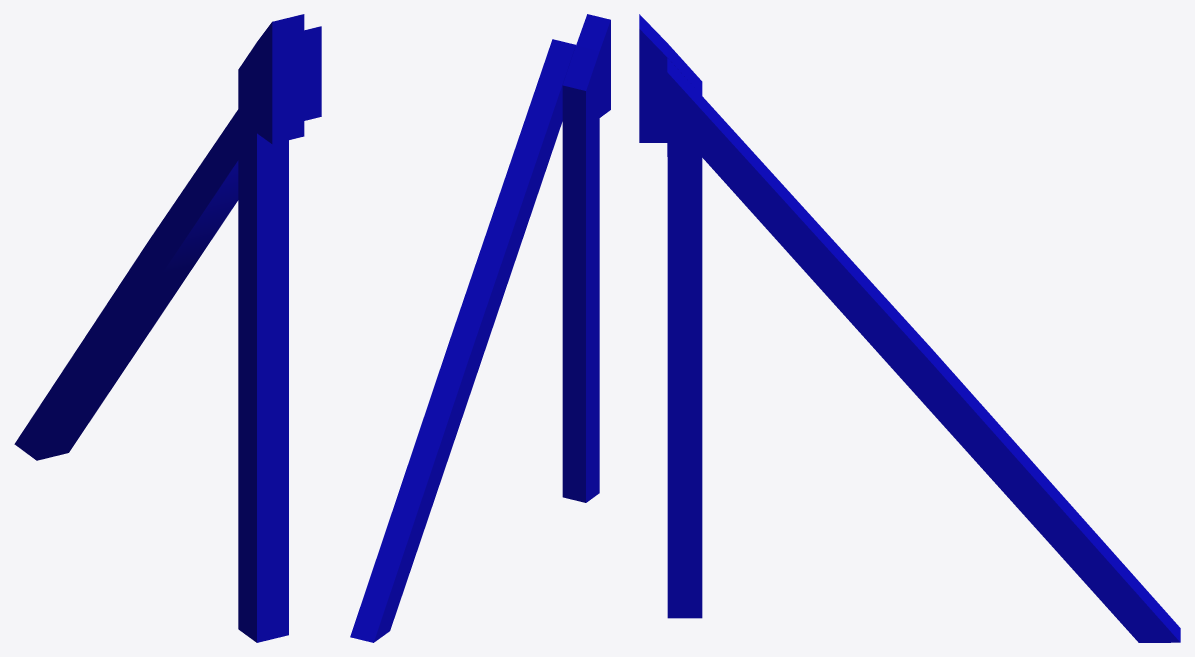
Rendered from 정문 조형물.fbx.
The picture shows the model from 3 angles, left to right: view 1: azimuth 30°, elevation 25°; view 2: azimuth 150°, elevation 25°; view 3: azimuth 270°, elevation 25°; orthographic projection. The views are drawn at different scales.
Parts seen in each view (by area): view 1: Box001, Box002; view 2: Box002, Box001; view 3: Box002, Box001.
Boxes of the visible parts, x1=… form: Box001: x1=238, y1=14, x2=304, y2=642; Box002: x1=14, y1=26, x2=321, y2=460; Box002: x1=350, y1=39, x2=575, y2=642; Box001: x1=562, y1=14, x2=610, y2=502; Box002: x1=667, y1=58, x2=1180, y2=642; Box001: x1=639, y1=14, x2=702, y2=618.
Bounding box in the file's own units: 18.31 × 175 × 143.
